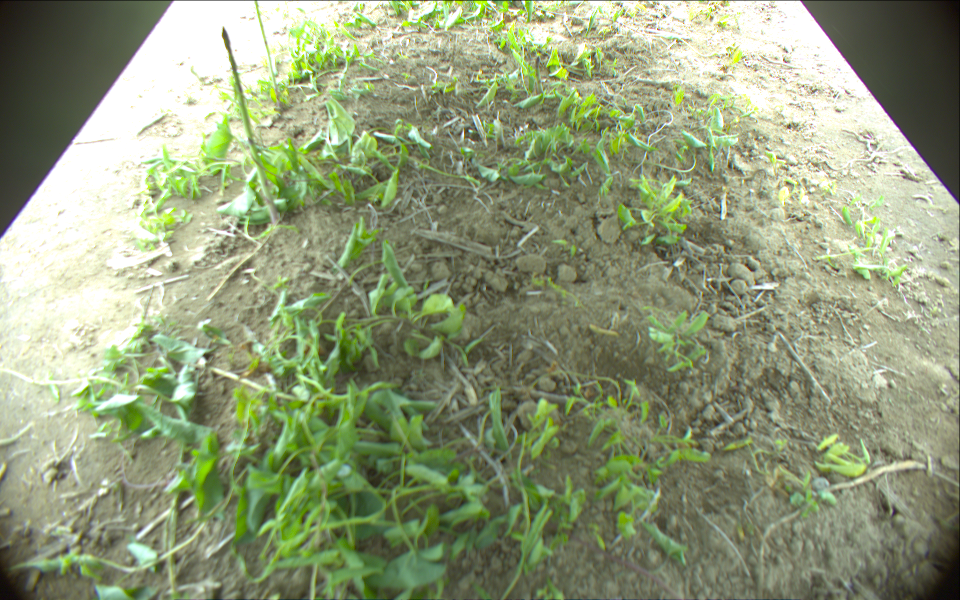aspa: (217, 29, 282, 224), (251, 1, 281, 95)
